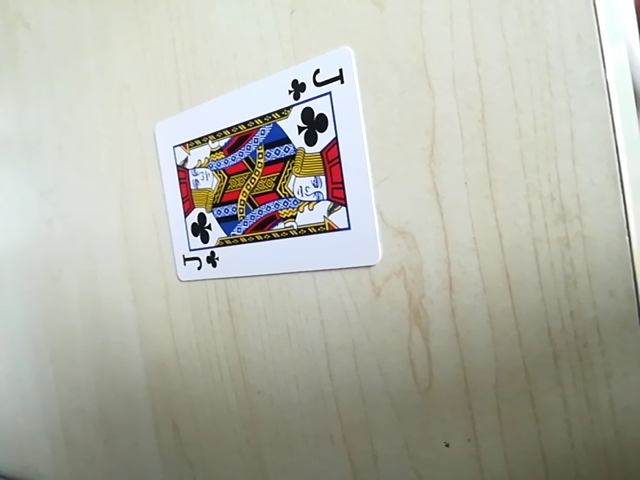mh j: (287, 63, 348, 101), (174, 243, 222, 279)
